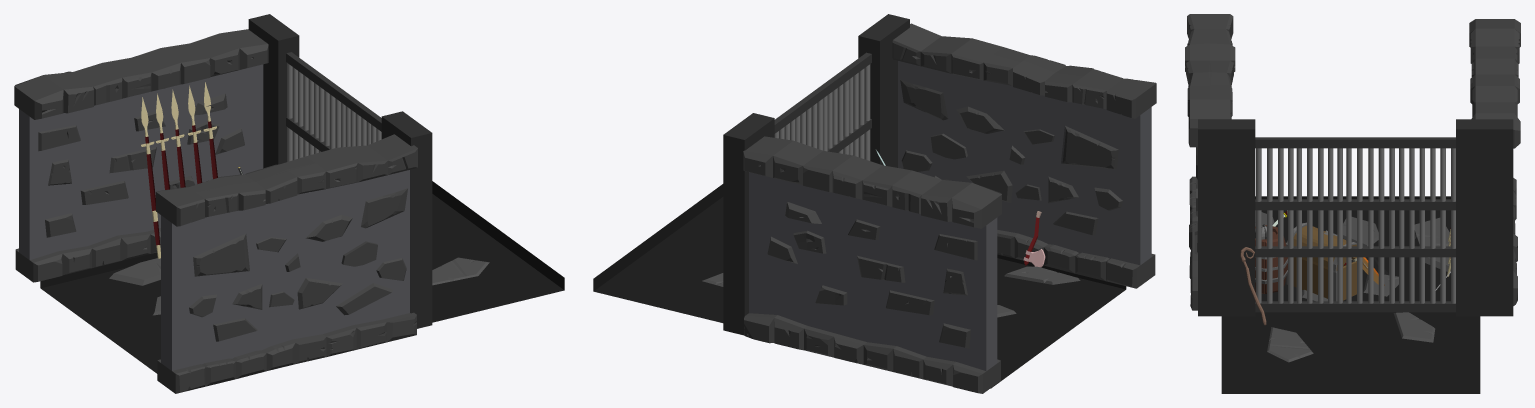
Rendered from ExampleScene.fbx.
3 renders of one model, left to right at view 1: azimuth 30°, elevation 25°; view 2: azimuth 150°, elevation 25°; view 3: azimuth 270°, elevation 25°, orthographic. The views are drawn at different scales.
Visible parts, largest first — view 1: Cube.018, Cube.017, Cube.016, Cube.015, Cube.050, Cube.004, Cylinder.001, Cube.005, Cube.049, Cube.003; view 2: Cube.016, Cube.018, Cube.015, Cube.017, Cube.050, Cube.005, Cylinder.001, Cube.004, Cube.003, Cube.049; view 3: Cube.050, Cylinder.001, Cube.005, Cube.004, Cube.017, Cube.015, Cube.049, Cube.003, Cube, Cube.002, Cube.001, Cube.014 (+3 smaller).
Part boxes in pixels (box(x1,y1,x2,y2)): Cube.018: box(161, 170, 410, 370); Cube.017: box(156, 134, 417, 393); Cube.016: box(19, 64, 263, 259); Cube.015: box(14, 29, 268, 282); Cube.050: box(40, 181, 564, 373); Cube.004: box(381, 111, 432, 328); Cylinder.001: box(287, 63, 381, 161); Cube.005: box(248, 14, 299, 168); Cube.049: box(109, 257, 489, 315); Cube.003: box(286, 52, 381, 131); Cube.016: box(749, 172, 997, 371); Cube.018: box(898, 61, 1151, 265); Cube.015: box(743, 136, 1001, 393); Cube.017: box(892, 23, 1156, 288); Cube.050: box(593, 184, 1126, 388); Cube.005: box(723, 113, 774, 335); Cylinder.001: box(774, 64, 870, 160); Cube.004: box(858, 14, 909, 167); Cube.003: box(774, 52, 871, 133); Cube.049: box(702, 266, 1080, 317); Cube.050: box(1221, 196, 1480, 393); Cylinder.001: box(1256, 148, 1455, 303); Cube.005: box(1456, 119, 1513, 316); Cube.004: box(1198, 119, 1255, 316); Cube.017: box(1185, 14, 1235, 310); Cube.015: box(1469, 19, 1520, 305); Cube.049: box(1255, 210, 1450, 362); Cube.003: box(1255, 137, 1455, 148); Cube: box(1255, 301, 1455, 312); Cube.002: box(1255, 199, 1455, 210); Cube.001: box(1255, 246, 1455, 257); Cube.014: box(1293, 257, 1356, 300).
Size of the model in its own units: 1583 by 755 by 1173.
